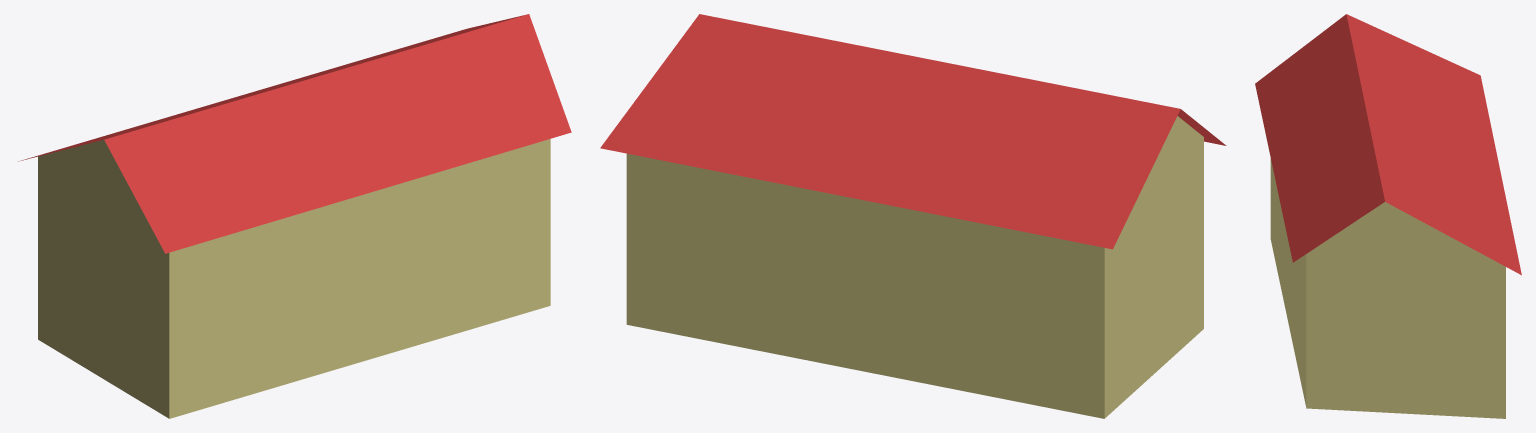
3 renders of one model, left to right at view 1: azimuth 30°, elevation 25°; view 2: azimuth 150°, elevation 25°; view 3: azimuth 270°, elevation 25°, orthographic. The views are drawn at different scales.
Visible parts, largest first — view 1: group_5, group_3, group_4; view 2: group_5, group_3; view 3: group_5, group_3, group_4.
Part boxes in pixels (<box>): group_5: <box>38,139,550,418</box>; group_3: <box>18,14,571,253</box>; group_4: <box>104,14,571,253</box>; group_5: <box>626,116,1203,418</box>; group_3: <box>600,14,1226,249</box>; group_5: <box>1270,158,1505,418</box>; group_3: <box>1257,14,1521,275</box>; group_4: <box>1255,14,1384,261</box>.
Bounding box in the file's own units: 24.38 × 13.75 × 12.32.
